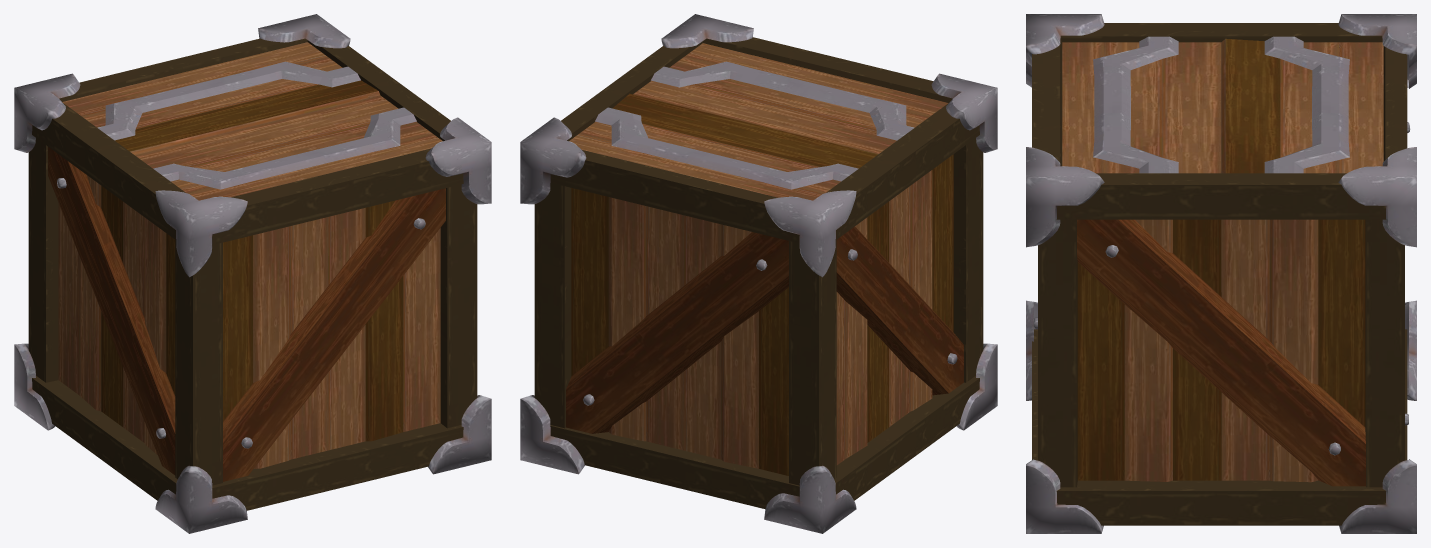
The model's file is metal_crate.glb.
3 views of the same model, side by side, from view 1: azimuth 30°, elevation 25°; view 2: azimuth 150°, elevation 25°; view 3: azimuth 270°, elevation 25° (orthographic). The views are drawn at different scales.
Visible parts, largest first — view 1: Crate_Metal.001; view 2: Crate_Metal.001; view 3: Crate_Metal.001.
Part boxes in pixels (x1,y1,x2,y2): Crate_Metal.001: [14, 14, 491, 533]; Crate_Metal.001: [520, 14, 997, 533]; Crate_Metal.001: [1026, 14, 1416, 533].
Bounding box in the file's own units: 0.8639 × 0.8679 × 0.8659.
2 materials, 2 textured.
